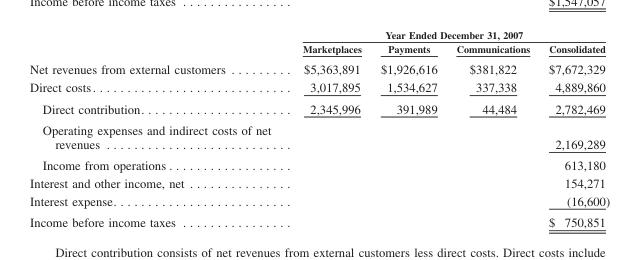table: (29, 28, 609, 228)
table column: (29, 28, 286, 228), (446, 28, 538, 228), (286, 28, 370, 228), (370, 28, 446, 228), (538, 28, 609, 228)
table column header: (29, 28, 609, 58)
table row: (29, 119, 609, 154), (29, 97, 609, 119), (29, 77, 609, 97), (29, 191, 609, 211), (29, 58, 609, 77), (29, 154, 609, 173), (29, 173, 609, 191), (29, 41, 609, 58), (29, 211, 609, 228), (29, 28, 609, 41)
table spanning cell: (286, 28, 609, 41)
